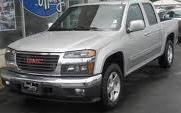front_view: (3, 44, 106, 101)
headlight: (61, 45, 100, 79)
side_glass: (122, 4, 160, 26)
